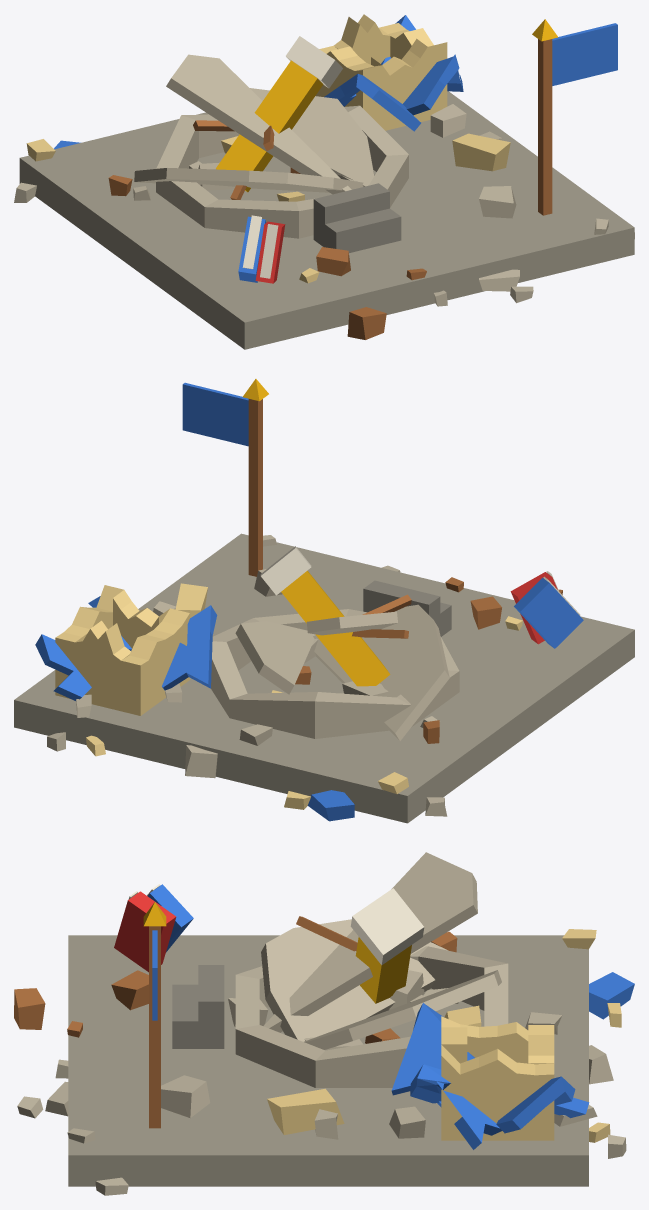
Rendered from observatory_t1_v1_dmg2.glb.
The picture shows the model from 3 angles, top to bottom: view 1: azimuth 30°, elevation 25°; view 2: azimuth 150°, elevation 25°; view 3: azimuth 270°, elevation 25°; orthographic projection. The views are drawn at different scales.
Parts seen in each view (by area): view 1: observatory_t1_v1_dmg2; view 2: observatory_t1_v1_dmg2; view 3: observatory_t1_v1_dmg2.
Boxes of the visible parts, x1,y1,x2,y2 form: observatory_t1_v1_dmg2: [14, 14, 634, 349]; observatory_t1_v1_dmg2: [14, 379, 634, 823]; observatory_t1_v1_dmg2: [14, 852, 634, 1195].
Bounding box in the file's own units: 0.6646 × 0.325 × 0.7156.
Materials: 1 (1 with a texture image).
